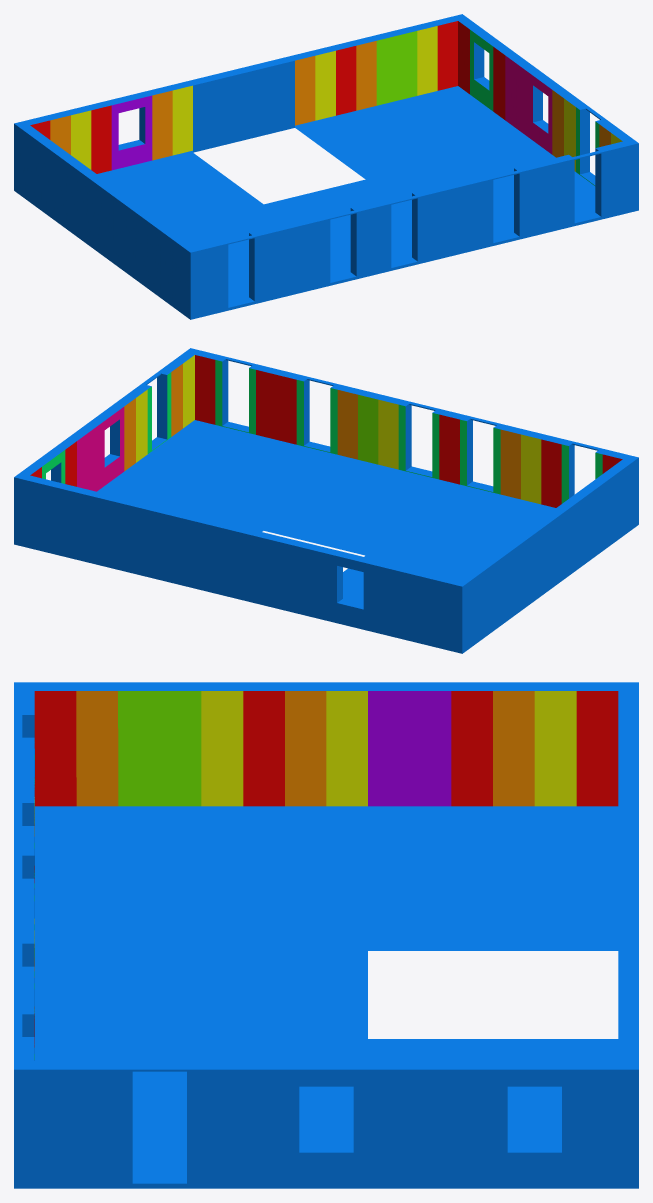
File: mursmat.FBX
3 renders of one model, top to bottom at view 1: azimuth 30°, elevation 25°; view 2: azimuth 150°, elevation 25°; view 3: azimuth 270°, elevation 25°, orthographic. The views are drawn at different scales.
Visible parts, largest first — view 1: sol_murs; view 2: sol_murs; view 3: sol_murs.
Boxes of the visible parts, x1,y1,x2,y2 form: sol_murs: [14, 14, 638, 319]; sol_murs: [14, 348, 638, 653]; sol_murs: [14, 682, 638, 1188].
Bounding box in the file's own units: 866 × 124 × 591.
